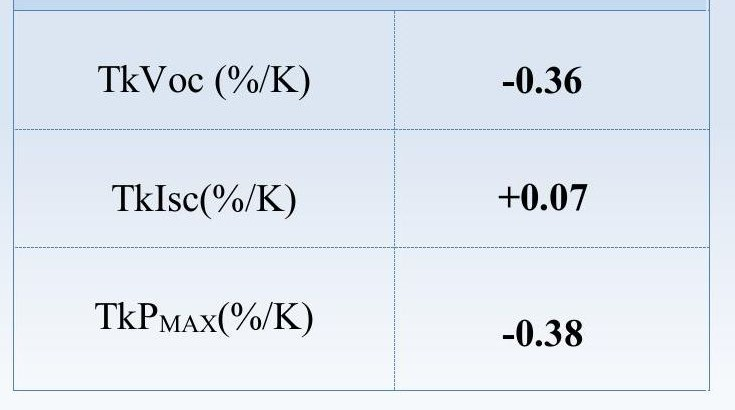table: (5, 6, 721, 398)
table column: (31, 12, 388, 393), (405, 12, 704, 396)
table row: (20, 253, 706, 387), (19, 15, 706, 127), (20, 134, 706, 242)
